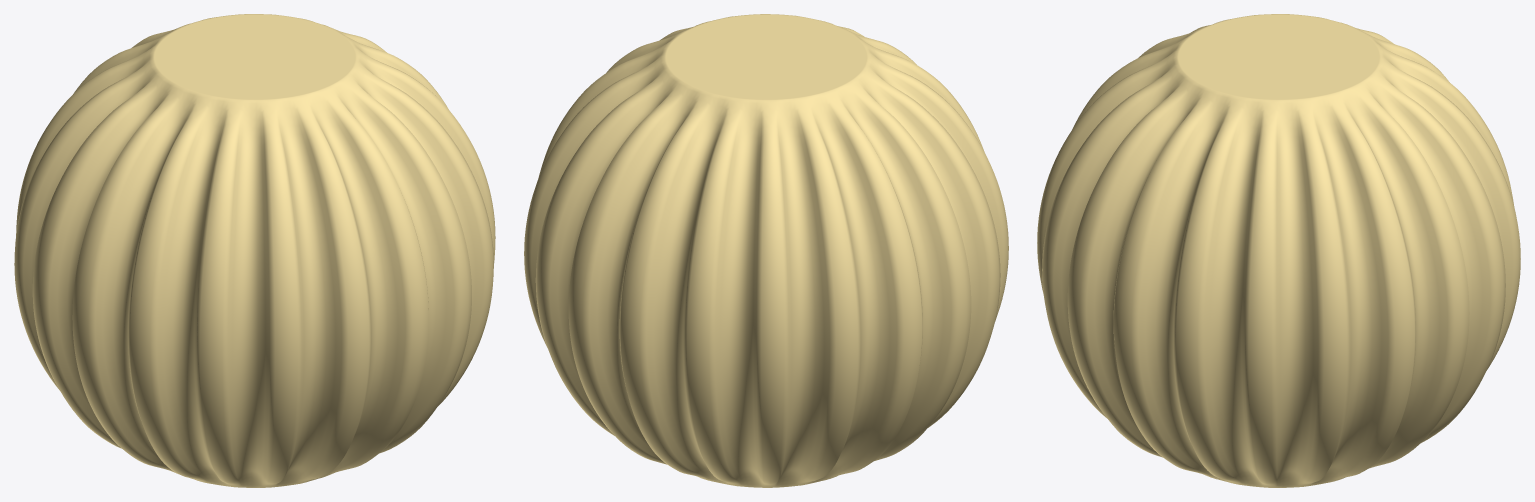
Rendered from Dignity_5mm_Solid_v01.glb.
The picture shows the model from 3 angles, left to right: view 1: azimuth 30°, elevation 25°; view 2: azimuth 150°, elevation 25°; view 3: azimuth 270°, elevation 25°; orthographic projection.
Parts seen in each view (by area): view 1: Dignity_5mm_Solid; view 2: Dignity_5mm_Solid; view 3: Dignity_5mm_Solid.
Part boxes in pixels (x1,y1,x2,y2): Dignity_5mm_Solid: (14,14,495,487); Dignity_5mm_Solid: (524,14,1008,487); Dignity_5mm_Solid: (1037,14,1520,487).
Bounding box in the file's own units: 0.00491 × 0.00434 × 0.00491.
